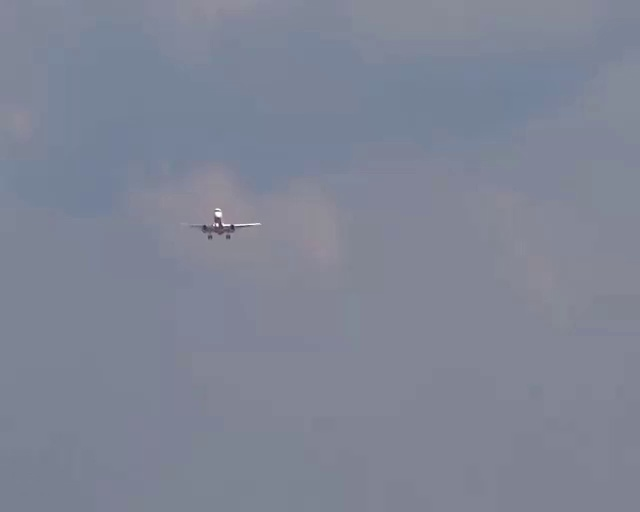AIRPLANE: (185, 207, 263, 240)
